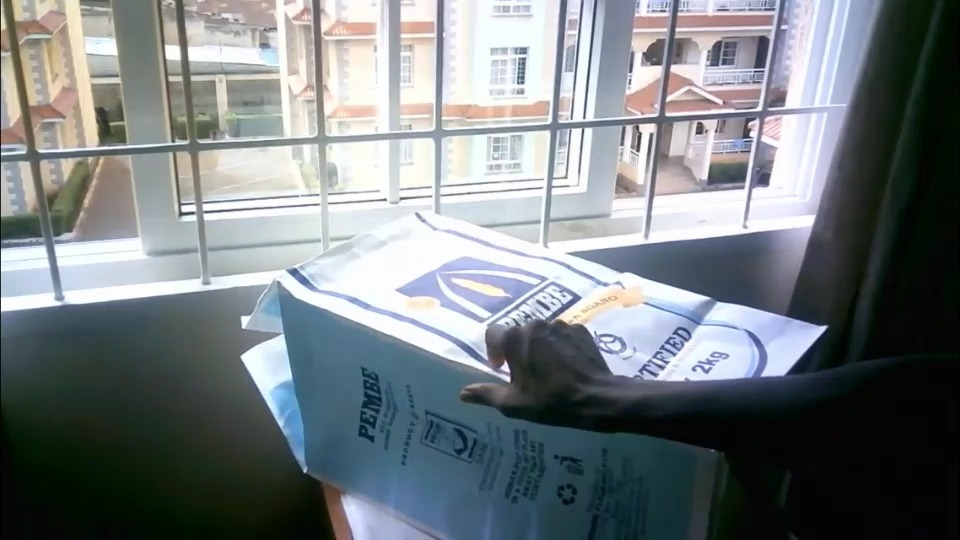wheat_flour_blue_label: (278, 206, 832, 537)
